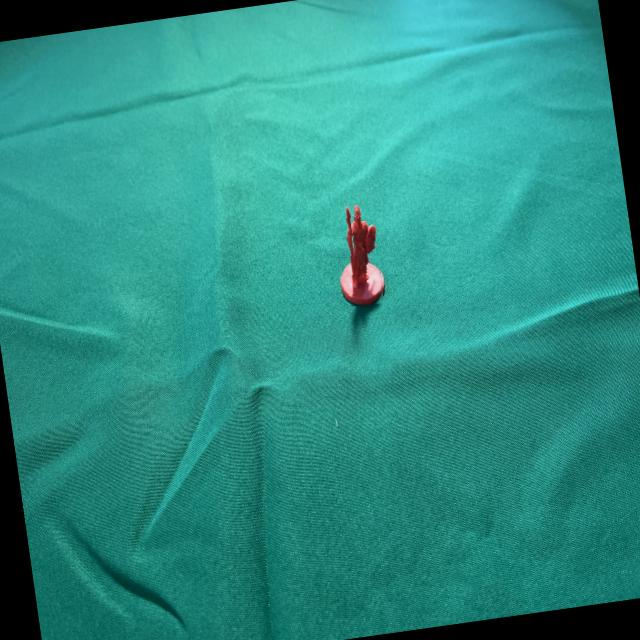amon_follower: (341, 205, 383, 306)
